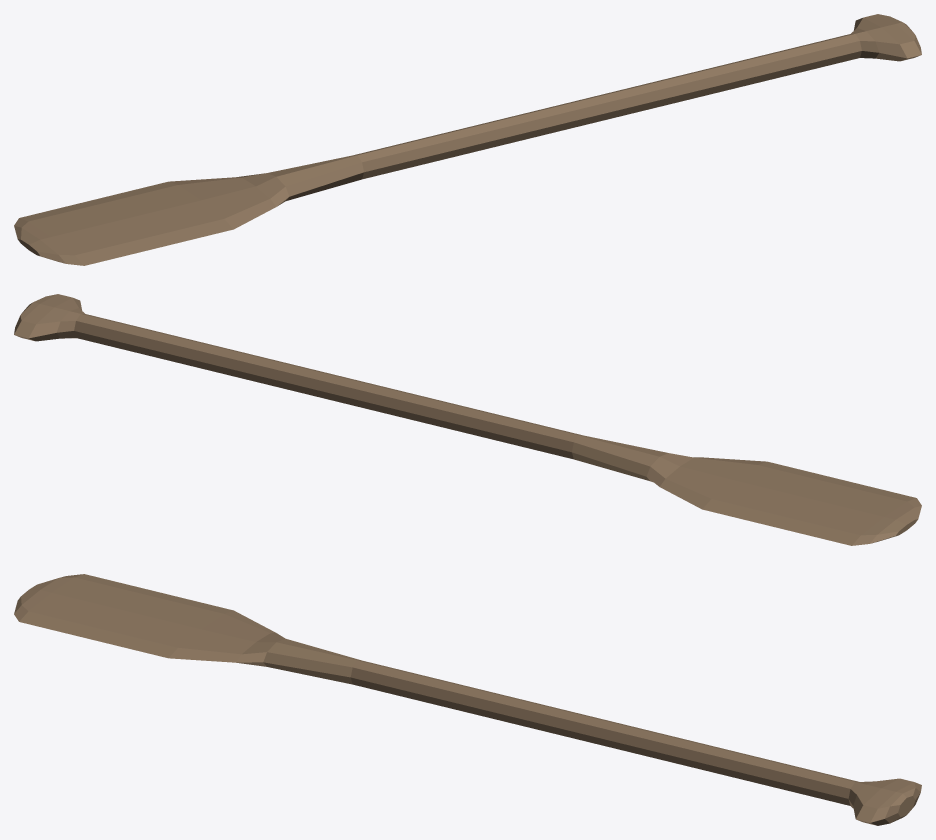
Rendered from Paddle.fbx.
The picture shows the model from 3 angles, top to bottom: view 1: azimuth 30°, elevation 25°; view 2: azimuth 150°, elevation 25°; view 3: azimuth 330°, elevation 25°; orthographic projection.
Visible parts, largest first — view 1: Paddle; view 2: Paddle; view 3: Paddle.
Part boxes in pixels (<box>): Paddle: <box>14,14,921,265</box>; Paddle: <box>14,294,921,545</box>; Paddle: <box>14,574,921,825</box>.
Size of the model in its own units: 1217 by 32.11 by 157.
